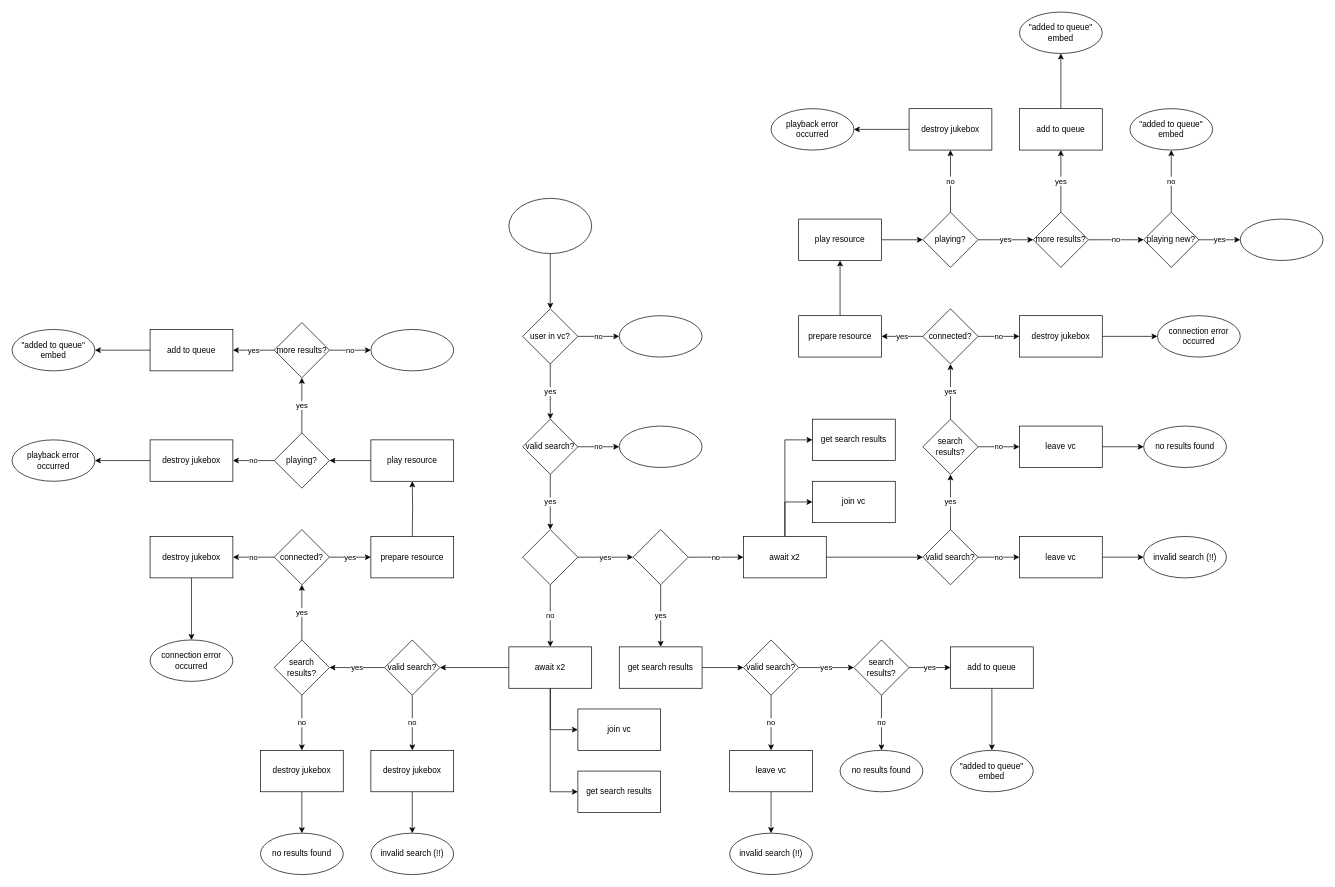
The diagram is 1335 pixels wide and 887 high, and some of its shapes have lost their labels. Here are the shapes that lost their labels. From the top down, the centre of each, then its label:
[550,226]: /play <song>
[1281,239]: "now playing" embed
[412,350]: "now playing X" embed
[660,336]: not in vc
[660,446]: invalid search
[550,557]: jukebox exists?
[660,557]: currently playing?
